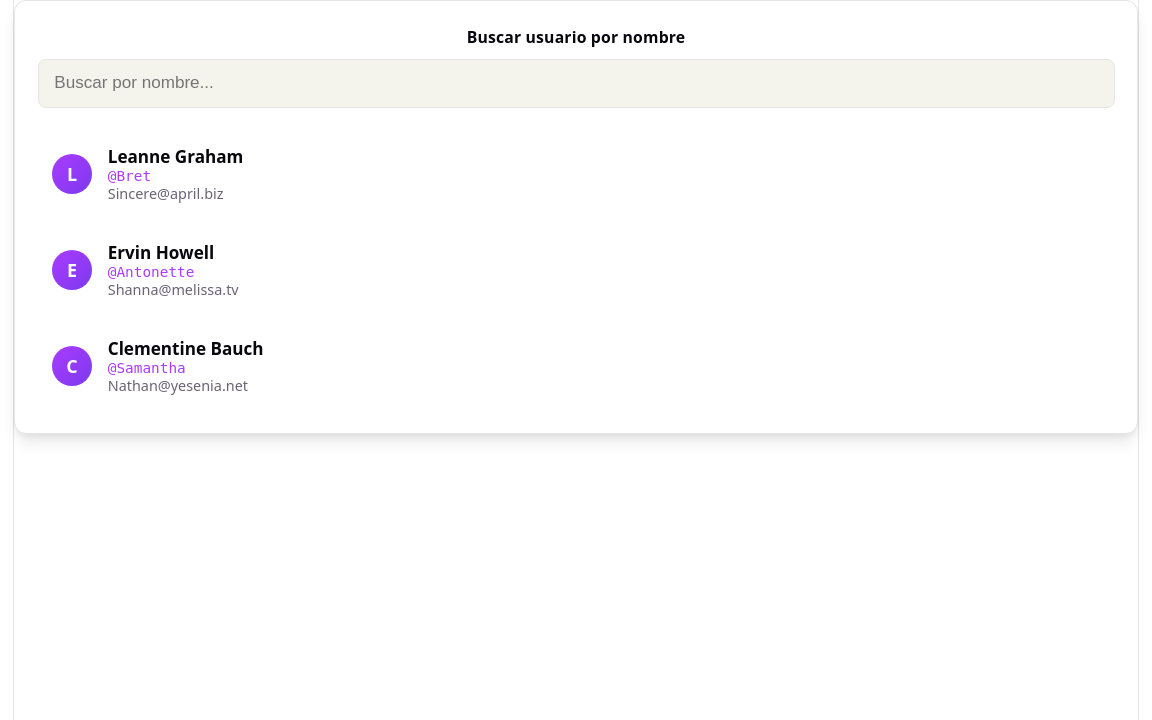
it: UserList component › muestra estado vacío cuando ningún usuario coincide con el filtro de búsqueda
Type "NombreInexistente" into the search field labelled "Buscar usuario por nombre".
click(576, 83); type("NombreInexistente")  # box [38,59,1114,108]
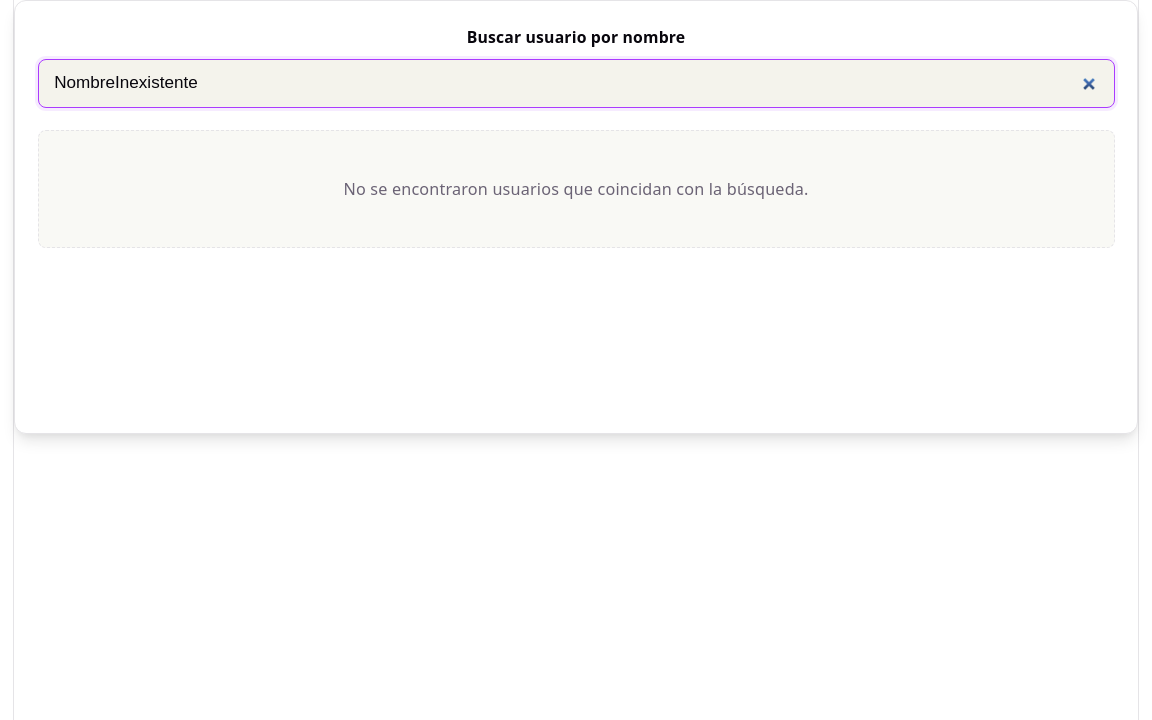
Expected: the text "No se encontraron usuarios que coincidan con la búsqueda." is shown, [343,176,808,202]
